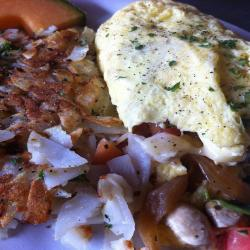omelette: (102, 2, 246, 157)
